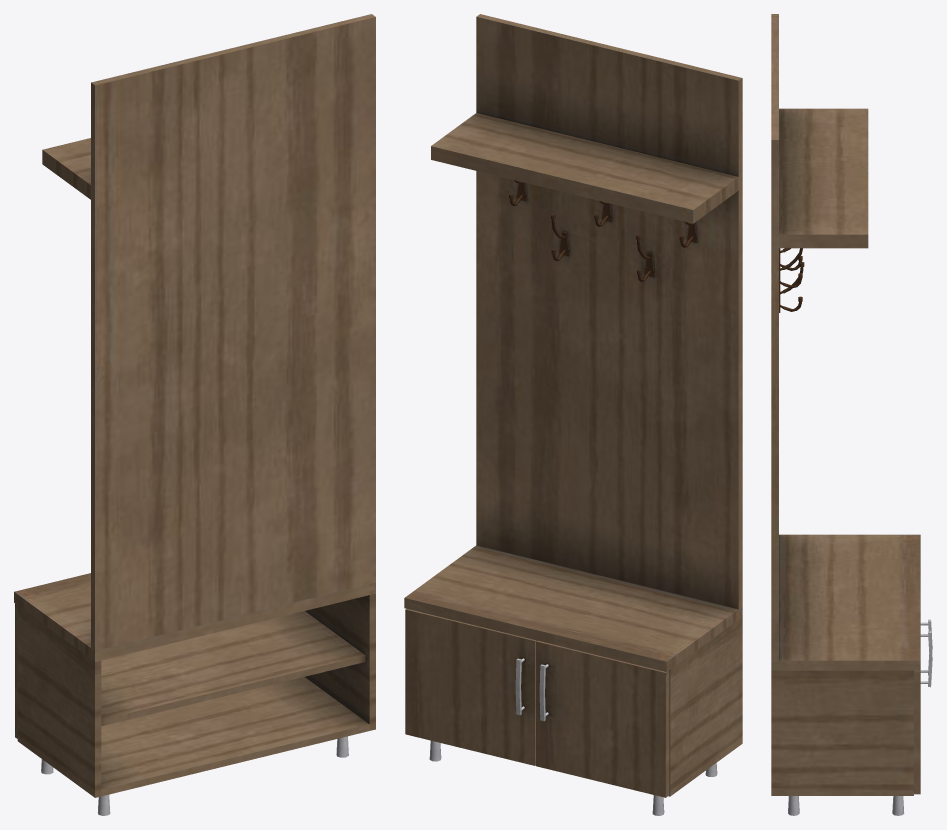
Rendered from hall_stand_lod1_web.glb.
3 renders of one model, left to right at view 1: azimuth 30°, elevation 25°; view 2: azimuth 150°, elevation 25°; view 3: azimuth 270°, elevation 25°, orthographic. The views are drawn at different scales.
Visible parts, largest first — view 1: HallStand_Body; view 2: HallStand_Body, Door_1_R_Mesh, Door_1_L_Mesh, Chrome_Hooks; view 3: HallStand_Body, Chrome_Hooks, Door_1_L_Mesh.
Part boxes in pixels (bbox=[...]): HallStand_Body: bbox=[14, 14, 375, 797]; HallStand_Body: bbox=[404, 14, 742, 796]; Door_1_R_Mesh: bbox=[536, 640, 669, 797]; Door_1_L_Mesh: bbox=[405, 608, 536, 765]; Chrome_Hooks: bbox=[429, 180, 717, 815]; HallStand_Body: bbox=[771, 14, 920, 795]; Chrome_Hooks: bbox=[779, 248, 904, 815]; Door_1_L_Mesh: bbox=[914, 670, 920, 794].
Size of the model in its own units: 0.8 by 2.02 by 0.4319.
Materials: 3 (3 with a texture image).
